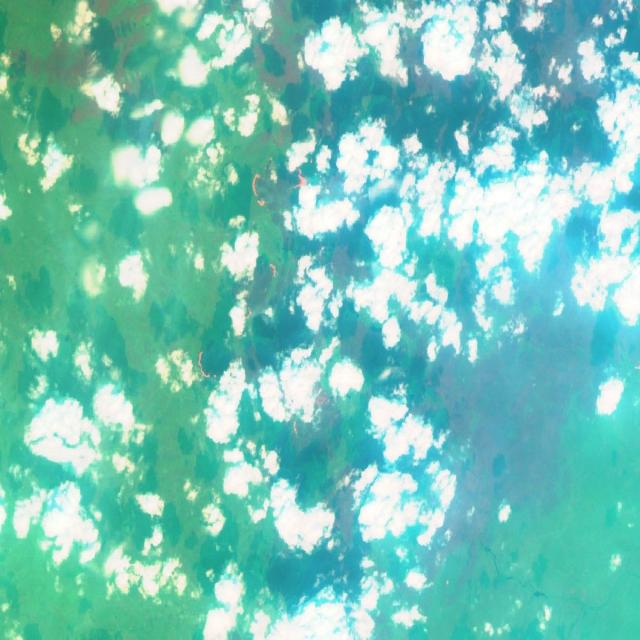fire: (244, 157, 314, 218), (193, 344, 226, 396), (286, 415, 310, 456), (238, 297, 258, 333), (264, 254, 282, 288)
